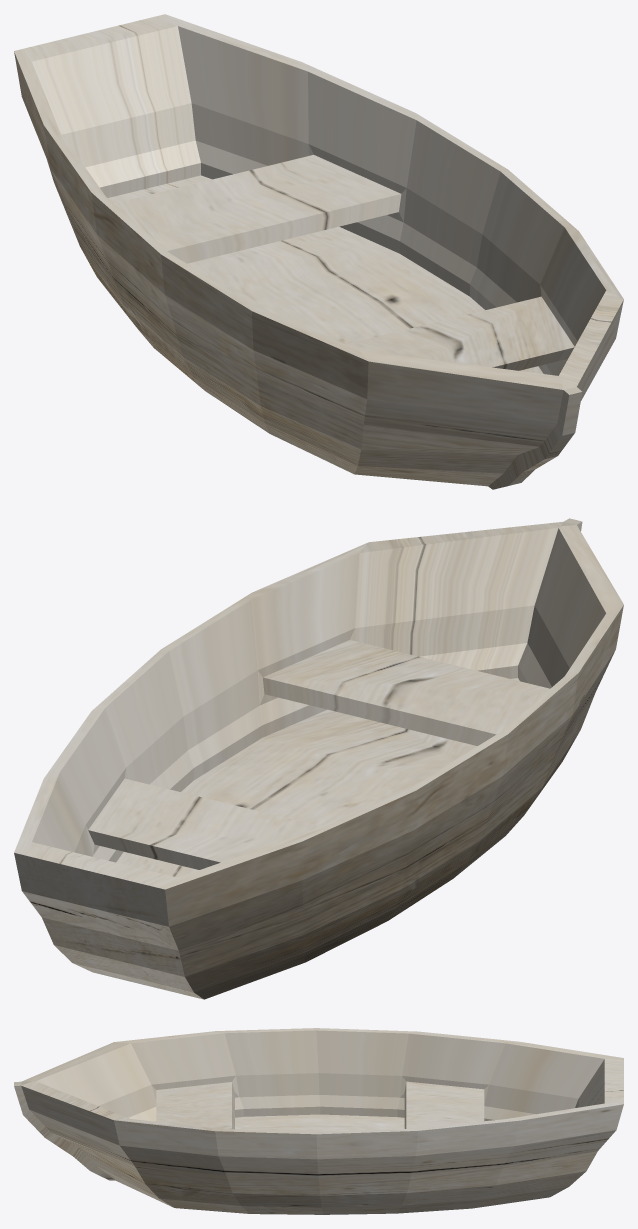
Rendered from boat.glb.
The picture shows the model from 3 angles, top to bottom: view 1: azimuth 30°, elevation 25°; view 2: azimuth 150°, elevation 25°; view 3: azimuth 270°, elevation 25°; orthographic projection. The views are drawn at different scales.
Visible parts, largest first — view 1: Cube; view 2: Cube; view 3: Cube.
Part boxes in pixels (bbox=[...]): Cube: bbox=[14, 14, 623, 489]; Cube: bbox=[14, 518, 623, 999]; Cube: bbox=[14, 1028, 623, 1214].
Size of the model in its own units: 9.3 by 4.04 by 22.56.
1 material, 1 textured.
